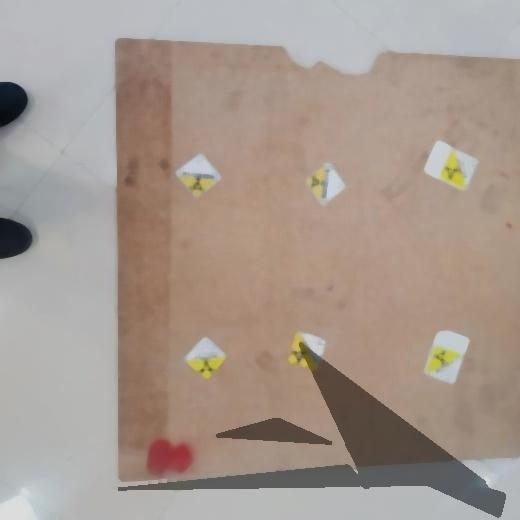radioactive: (182, 334, 228, 381), (176, 153, 221, 199), (438, 146, 480, 193), (302, 163, 346, 206), (286, 330, 328, 371), (425, 346, 466, 384)
